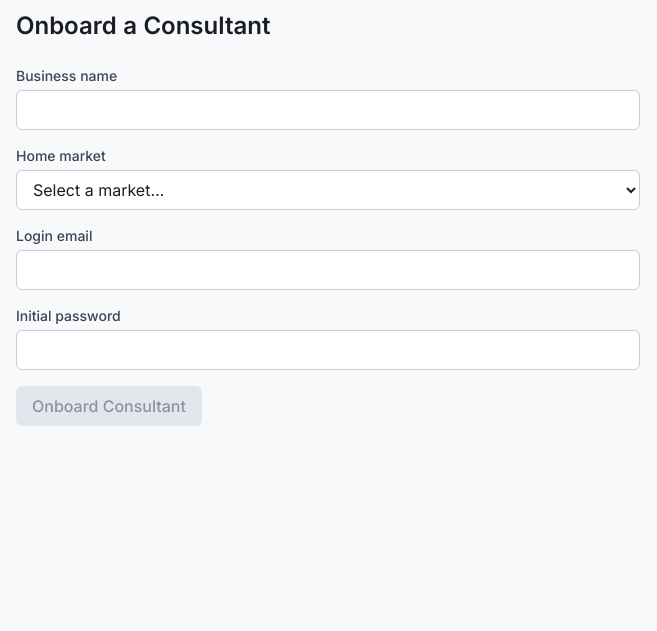
it: ConsultantOnboardingWizard › success state: renders the fetched KYC fields for the selected market
Select "India" in the dropdown labelled "Home market" at (328, 190), box [16,170,640,210]
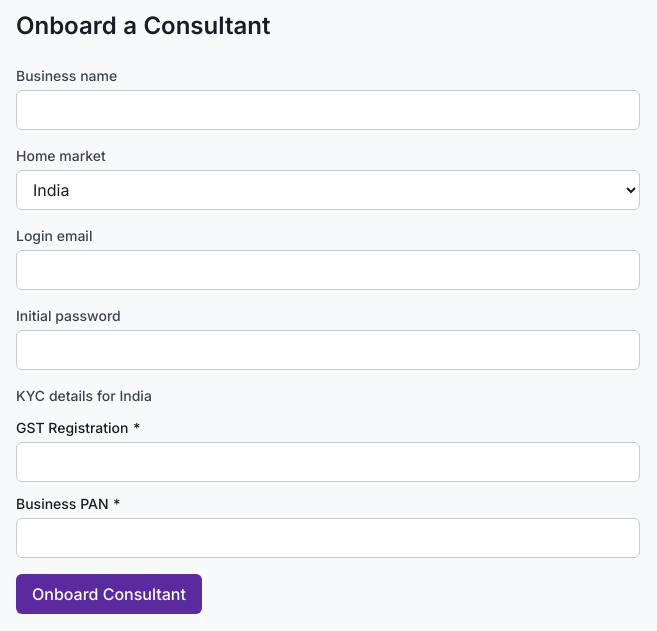
Now the field labelled "GST Registration *" is shown, box [16,442,640,482]
Now the field labelled "Business PAN *" is shown, box [16,518,640,558]
